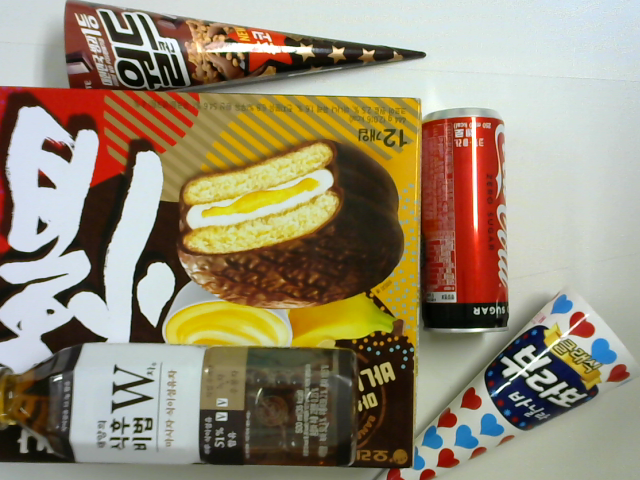Bravo_Cone_(Banila)_CVS: (373, 286, 638, 480)
Choco_Pie_Banana: (1, 85, 420, 467)
Coca_Cola_Zero_Can_250ml: (419, 108, 511, 341)
Post-meal_recipe_W_tea_500ml: (1, 348, 359, 463)
World_Cone_Choco: (59, 2, 425, 93)
